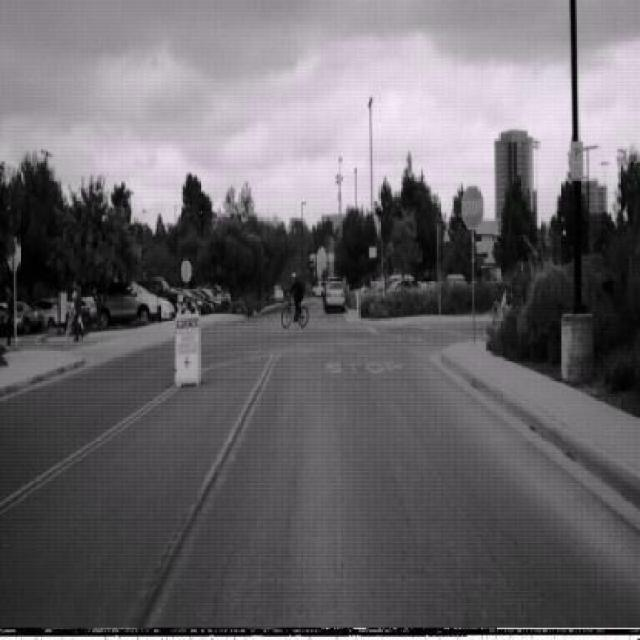stop: (460, 185, 484, 230)
